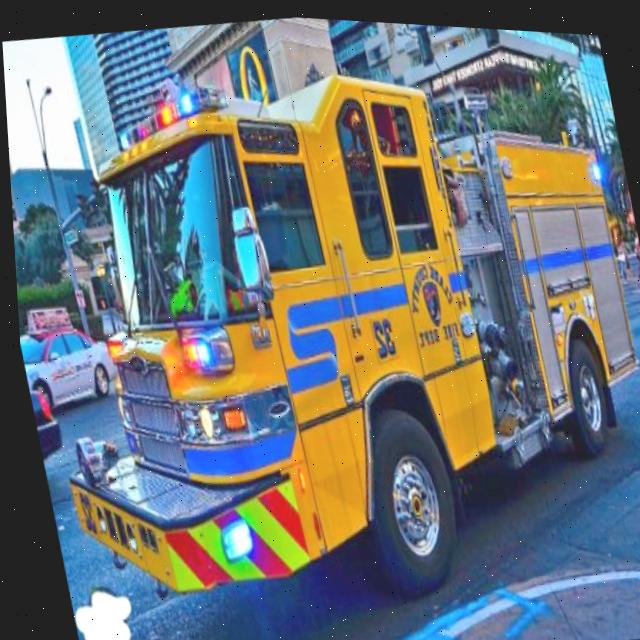emergency: (1, 12, 640, 640)
